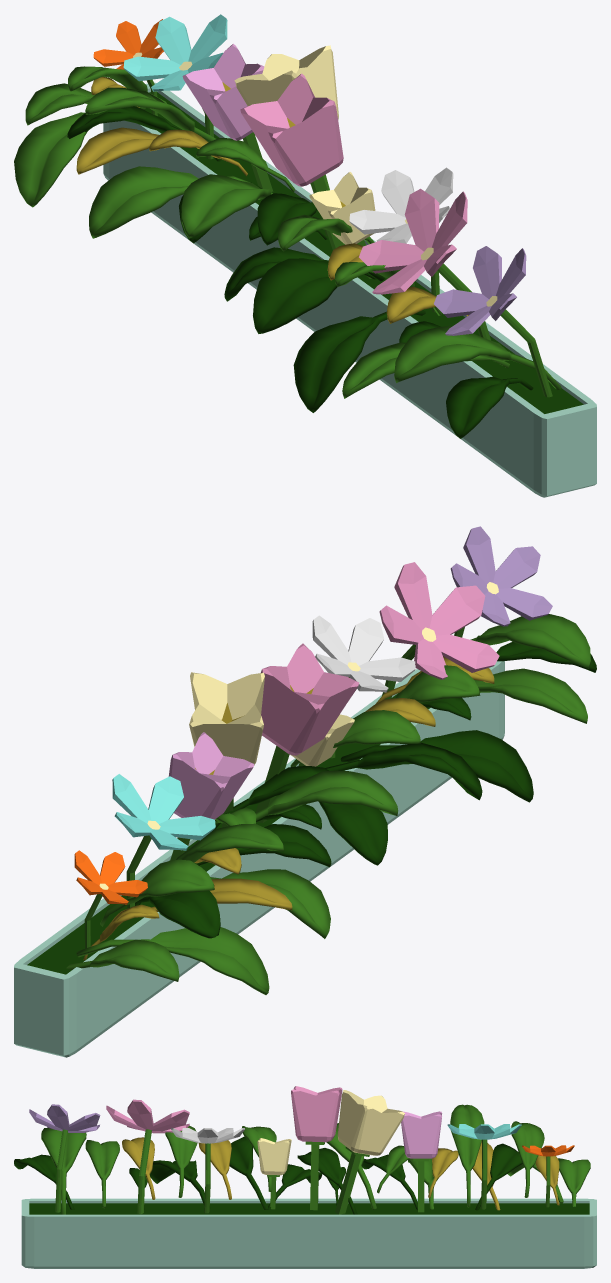
File: Square_flowerbed_set.fbx
3 renders of one model, top to bottom at view 1: azimuth 30°, elevation 25°; view 2: azimuth 150°, elevation 25°; view 3: azimuth 270°, elevation 25°, orthographic. The views are drawn at different scales.
Visible parts, largest first — view 1: Square_flowerbed, Tulip_flower_6, Daisy_flower.004, Daisy_flower, Leaf.012, Leaf.004, Leaf.014, Daisy_flower.001, Tulip_flower_4, Leaf.022, Leaf.018, Tulip_flower_5 (+19 smaller); view 2: Square_flowerbed, Daisy_flower.004, Tulip_flower_6, Tulip_flower_5, Daisy_flower, Daisy_flower.001, Tulip_flower_4, Daisy_flower.003, Leaf.022, Leaf.012, Leaf.007, Leaf.018 (+19 smaller); view 3: Square_flowerbed, Tulip_flower_5, Tulip_flower_6, Daisy_flower.004, Tulip_flower_4, Daisy_flower, Leaf.020, Leaf.018, Tulip_flower_7, Daisy_flower.003, Daisy_flower.001, Leaf.019 (+20 smaller).
Part boxes in pixels (x1=…): Square_flowerbed: x1=103, y1=82, x2=596, y2=497; Tulip_flower_6: x1=240, y1=73, x2=344, y2=249; Daisy_flower.004: x1=359, y1=188, x2=490, y2=340; Daisy_flower: x1=434, y1=246, x2=552, y2=397; Leaf.012: x1=293, y1=310, x2=425, y2=412; Leaf.004: x1=253, y1=258, x2=384, y2=333; Leaf.014: x1=89, y1=166, x2=250, y2=238; Daisy_flower.001: x1=123, y1=14, x2=227, y2=159; Tulip_flower_4: x1=182, y1=43, x2=273, y2=191; Leaf.022: x1=14, y1=107, x2=145, y2=207; Leaf.018: x1=394, y1=326, x2=561, y2=389; Tulip_flower_5: x1=234, y1=45, x2=338, y2=236; Square_flowerbed: x1=14, y1=661, x2=504, y2=1057; Daisy_flower.004: x1=379, y1=562, x2=499, y2=699; Tulip_flower_6: x1=255, y1=643, x2=358, y2=822; Tulip_flower_5: x1=189, y1=672, x2=264, y2=827; Daisy_flower: x1=450, y1=526, x2=552, y2=637; Daisy_flower.001: x1=112, y1=774, x2=215, y2=908; Tulip_flower_4: x1=168, y1=732, x2=254, y2=860; Daisy_flower.003: x1=312, y1=615, x2=415, y2=758; Leaf.022: x1=76, y1=927, x2=269, y2=994; Leaf.012: x1=340, y1=730, x2=533, y2=802; Leaf.007: x1=255, y1=770, x2=398, y2=820; Leaf.018: x1=470, y1=614, x2=590, y2=668; Square_flowerbed: x1=21, y1=1198, x2=596, y2=1268; Tulip_flower_5: x1=335, y1=1090, x2=404, y2=1214; Tulip_flower_6: x1=291, y1=1086, x2=342, y2=1210; Daisy_flower.004: x1=106, y1=1099, x2=189, y2=1214; Tulip_flower_4: x1=401, y1=1111, x2=442, y2=1212; Daisy_flower: x1=29, y1=1104, x2=100, y2=1212; Leaf.020: x1=450, y1=1104, x2=484, y2=1207; Leaf.018: x1=41, y1=1128, x2=86, y2=1214; Tulip_flower_7: x1=257, y1=1138, x2=291, y2=1209; Daisy_flower.003: x1=171, y1=1128, x2=244, y2=1213; Daisy_flower.001: x1=447, y1=1124, x2=521, y2=1209; Leaf.019: x1=511, y1=1121, x2=544, y2=1197.
Bounding box in the file's own units: 31.9 × 38.51 × 126.
